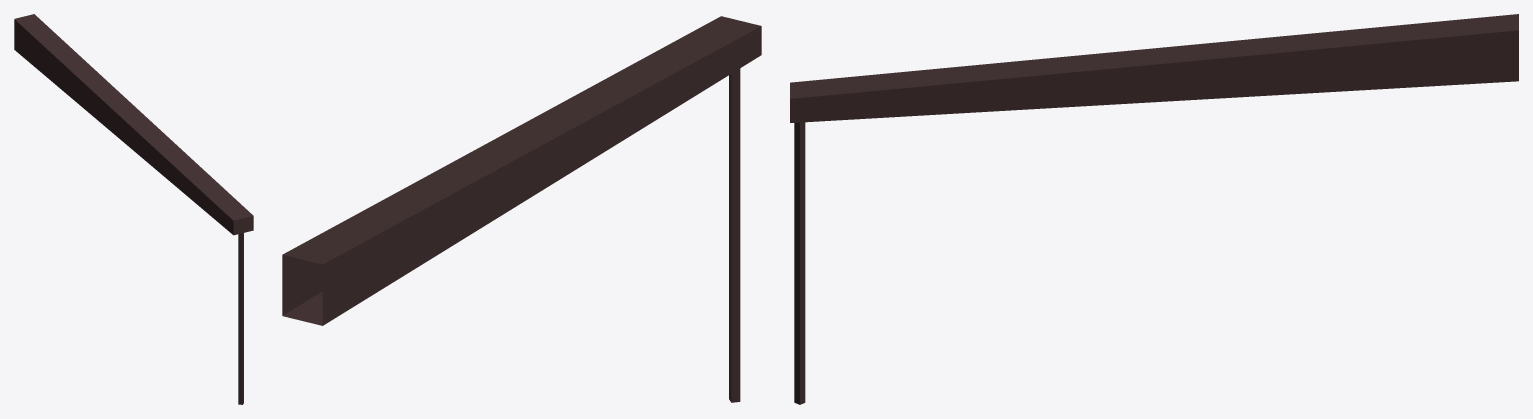
File: SW_ENV_EL_Station_Roof_MezzanineSupport_Collision.fbx
3 views of the same model, side by side, from view 1: azimuth 30°, elevation 25°; view 2: azimuth 150°, elevation 25°; view 3: azimuth 270°, elevation 25° (orthographic). The views are drawn at different scales.
Visible parts, largest first — view 1: SW_ENV_EL_Station_Roof_MezzanineSupport_Collision; view 2: SW_ENV_EL_Station_Roof_MezzanineSupport_Collision; view 3: SW_ENV_EL_Station_Roof_MezzanineSupport_Collision.
Boxes of the visible parts, x1,y1,x2,y2 form: SW_ENV_EL_Station_Roof_MezzanineSupport_Collision: (14, 14, 253, 404); SW_ENV_EL_Station_Roof_MezzanineSupport_Collision: (282, 16, 761, 402); SW_ENV_EL_Station_Roof_MezzanineSupport_Collision: (790, 14, 1518, 404).
Size of the model in its own units: 25 by 271 by 470.
